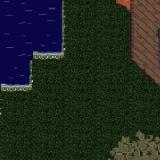Interaction: (0, 80, 41, 100), (56, 0, 73, 45), (42, 44, 72, 64), (26, 44, 40, 80)
Obstacle: (92, 0, 160, 58)
Slow: (0, 0, 28, 83), (28, 0, 60, 51)
